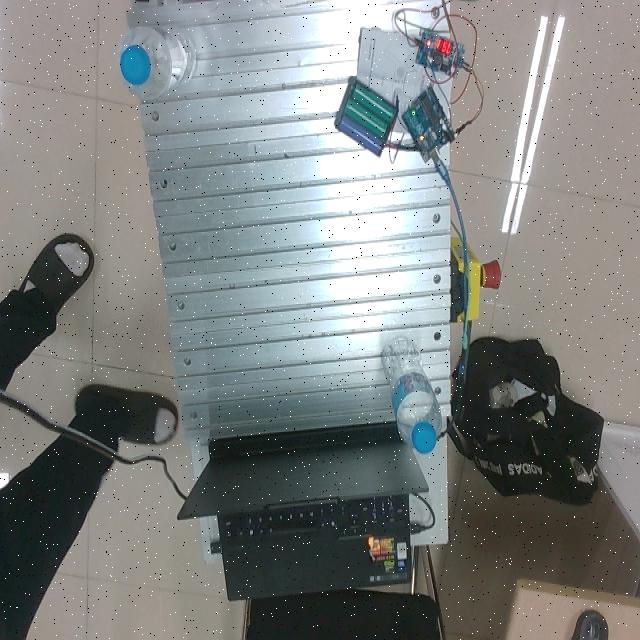lavie: (381, 336, 442, 456), (118, 26, 196, 101)
